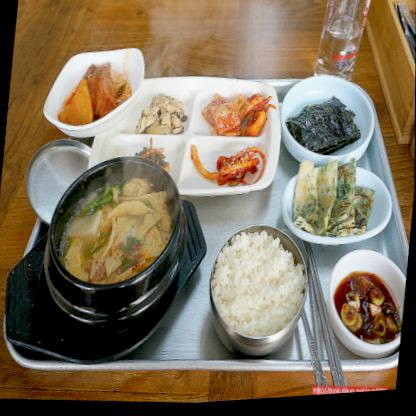Kimchi stew: (199, 80, 275, 144)
grilled mackerel: (283, 159, 380, 244)
miso soup: (51, 151, 184, 298)
radish Kimchi: (58, 55, 134, 127)
rice ball: (210, 228, 306, 342)
seasoned bellflower root: (184, 136, 266, 201)
seaweed soup: (290, 91, 366, 162)
